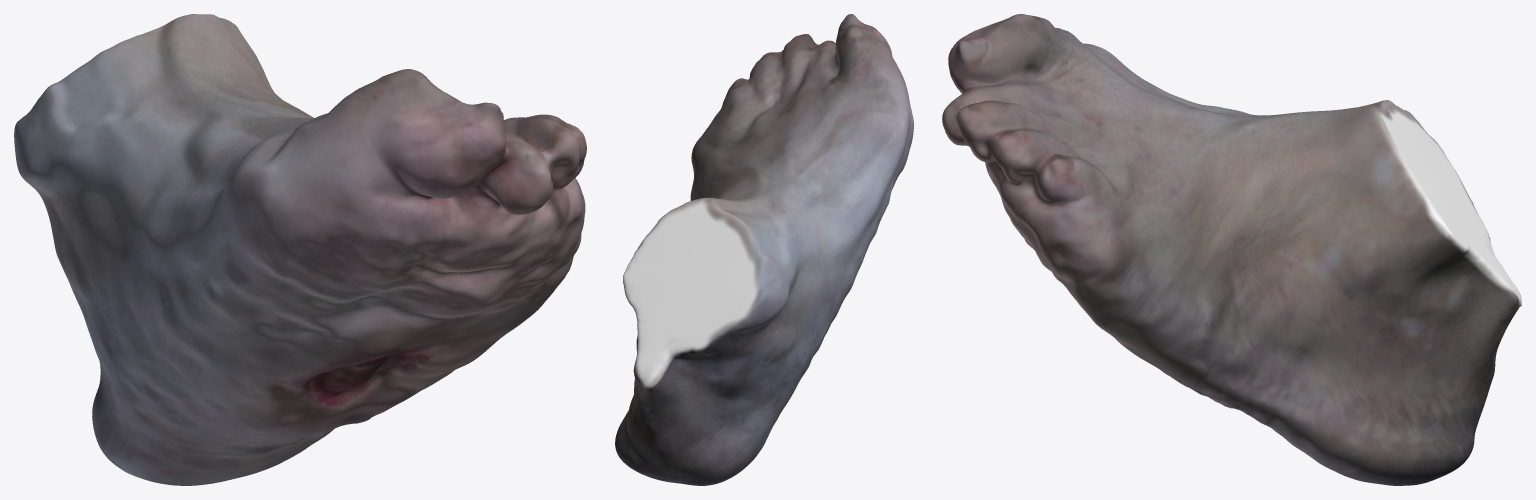
Rendered from foot_02.glb.
3 views of the same model, side by side, from view 1: azimuth 30°, elevation 25°; view 2: azimuth 150°, elevation 25°; view 3: azimuth 270°, elevation 25° (orthographic). The views are drawn at different scales.
Parts seen in each view (by area): view 1: Retopo_JanelleFoot_LP.001_mesh.004; view 2: Retopo_JanelleFoot_LP.001_mesh.004; view 3: Retopo_JanelleFoot_LP.001_mesh.004.
Part boxes in pixels (box(x1,y1,x2,y2)): Retopo_JanelleFoot_LP.001_mesh.004: box(14, 14, 586, 485); Retopo_JanelleFoot_LP.001_mesh.004: box(615, 14, 913, 485); Retopo_JanelleFoot_LP.001_mesh.004: box(942, 14, 1521, 485).
Bounding box in the file's own units: 0.0815 × 0.13 × 0.1542.
1 material, 1 textured.
